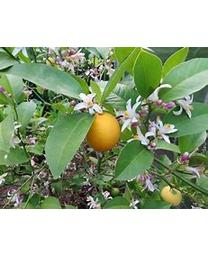lemon: (85, 111, 121, 151)
